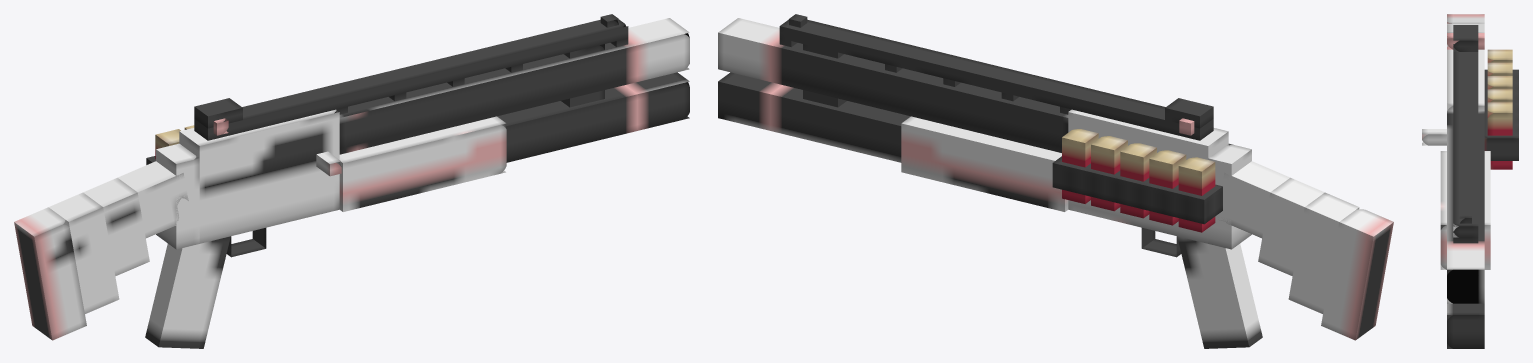
File: hoshino_gun.obj
3 views of the same model, side by side, from view 1: azimuth 30°, elevation 25°; view 2: azimuth 150°, elevation 25°; view 3: azimuth 270°, elevation 25° (orthographic). The views are drawn at different scales.
Parts seen in each view (by area): view 1: barrel, body_1, rail, foregrip, mag, stock_4, grip, stock_3, stock_2, stock_1, body_2, rearsight (+1 smaller); view 2: barrel, rail, foregrip, mag, stock_4, grip, clip, body_1, stock_3, stock_2, stock_1, body_2 (+7 smaller); view 3: rail, barrel, mag, foregrip, clip, shell_1, body_1, rearsight, knob, stock_4, shell_2, shell_3 (+6 smaller).
Part boxes in pixels (<box>): barrel: <box>339,18,689,154</box>; body_1: <box>179,109,339,243</box>; rail: <box>194,19,628,140</box>; foregrip: <box>339,116,506,211</box>; mag: <box>497,72,689,162</box>; stock_4: <box>14,207,86,340</box>; grip: <box>145,236,230,348</box>; stock_3: <box>49,192,119,313</box>; stock_2: <box>83,177,149,276</box>; stock_1: <box>118,161,188,238</box>; body_2: <box>156,143,199,249</box>; rearsight: <box>194,98,242,128</box>; barrel: <box>718,18,1068,152</box>; rail: <box>779,19,1213,140</box>; foregrip: <box>901,116,1068,211</box>; mag: <box>718,72,910,162</box>; stock_4: <box>1321,209,1393,340</box>; grip: <box>1177,236,1262,348</box>; clip: <box>1052,156,1222,224</box>; body_1: <box>1068,109,1228,243</box>; stock_3: <box>1288,192,1359,313</box>; stock_2: <box>1258,177,1324,276</box>; stock_1: <box>1221,161,1289,238</box>; body_2: <box>1208,143,1251,249</box>; rail: <box>1453,44,1478,237</box>; barrel: <box>1447,111,1484,303</box>; mag: <box>1447,303,1484,348</box>; foregrip: <box>1440,151,1490,269</box>; clip: <box>1484,69,1518,160</box>; shell_1: <box>1487,102,1512,169</box>; body_1: <box>1447,44,1484,111</box>; rearsight: <box>1453,25,1478,51</box>; knob: <box>1422,129,1446,145</box>; stock_4: <box>1447,14,1484,23</box>; shell_2: <box>1487,89,1512,102</box>; shell_3: <box>1487,76,1512,89</box>.
Bounding box in the file's own units: 3.51 × 1.18 × 0.4844.
